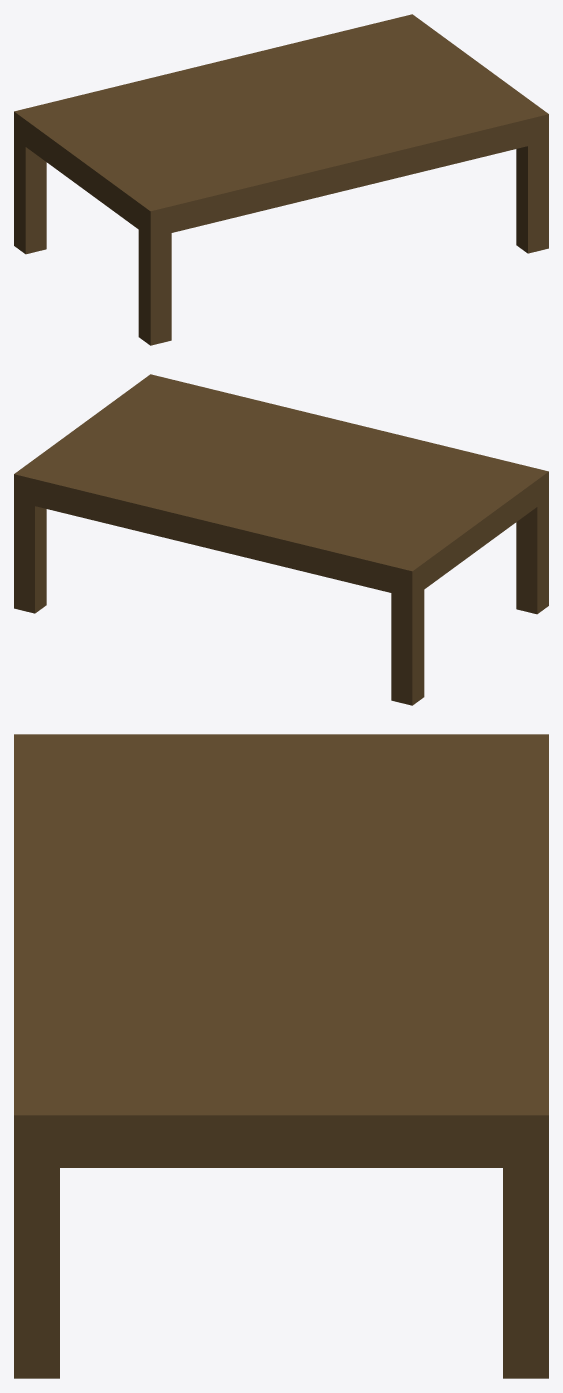
File: Coffee_Table.fbx
3 views of the same model, one above another, from view 1: azimuth 30°, elevation 25°; view 2: azimuth 150°, elevation 25°; view 3: azimuth 270°, elevation 25° (orthographic). The views are drawn at different scales.
Parts seen in each view (by area): view 1: CoffeeTable; view 2: CoffeeTable; view 3: CoffeeTable.
Boxes of the visible parts, x1,y1,x2,y2 form: CoffeeTable: (14, 14, 548, 345); CoffeeTable: (14, 374, 548, 705); CoffeeTable: (14, 734, 548, 1378).
Bounding box in the file's own units: 1.89 × 0.6091 × 1.12.
